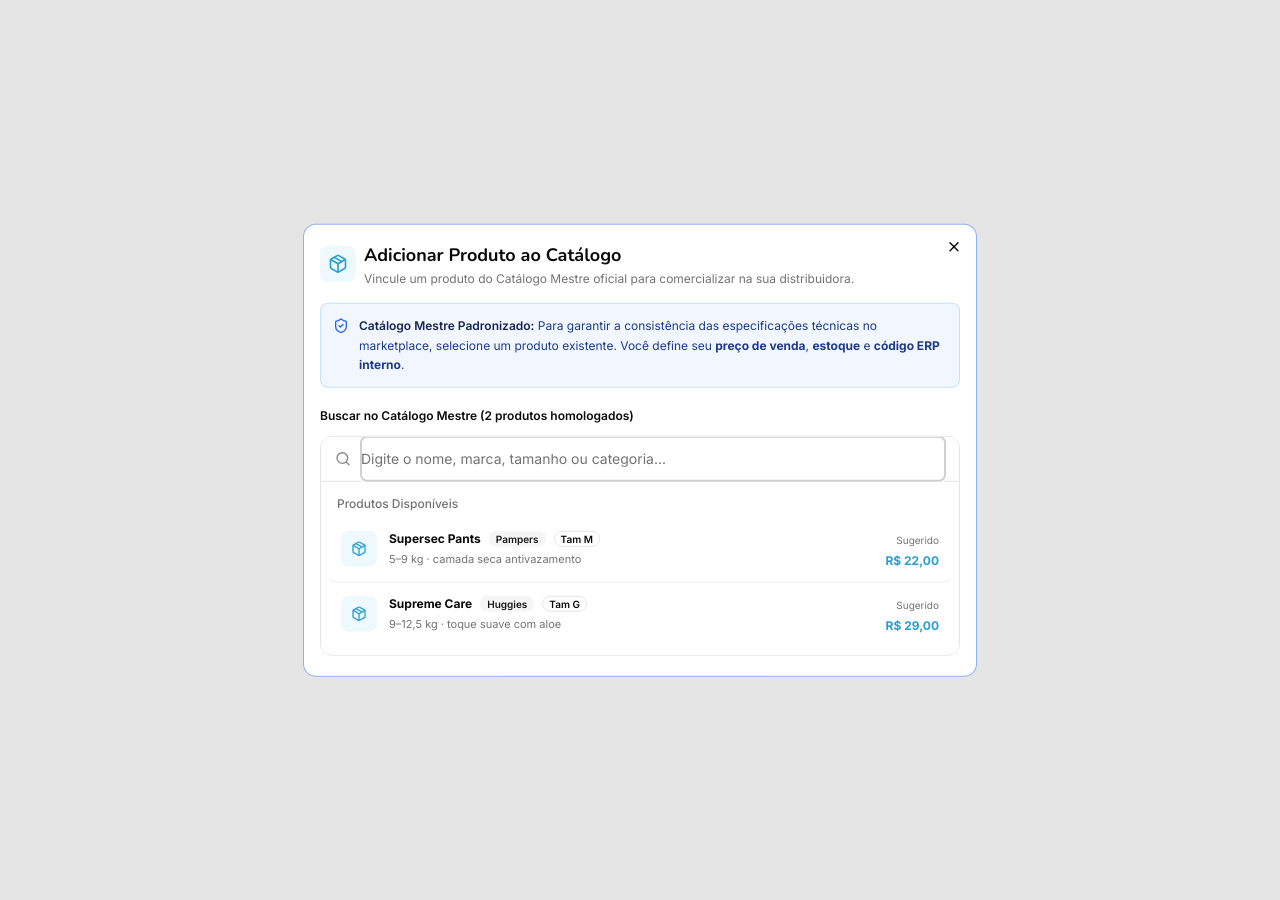
AddProductDialog Component › selects master product and displays price, stock and ERP_ID form
The width and height of the screenshot is (1280, 900).
// Select Supersec Pants
Click the option with test id "master-item-m1": x=359, y=548 [329,517,951,582]
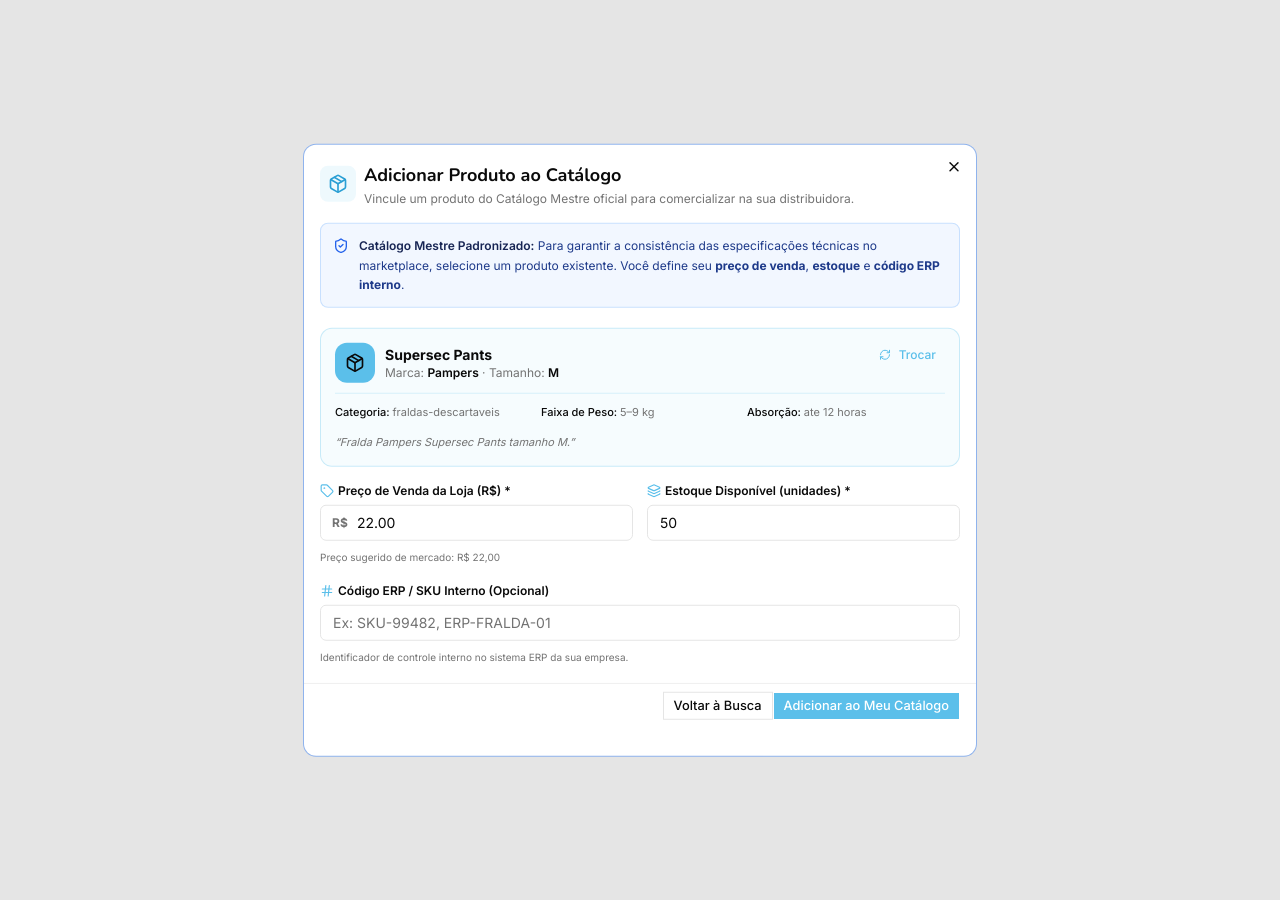
Now the form with test id "link-product-form" is shown, box [320,323,960,739]
Now the heading "Supersec Pants" is shown, box [385,345,492,362]
Now the text "Marca: Pampers · Tamanho: M" is shown, box [385,364,559,380]
